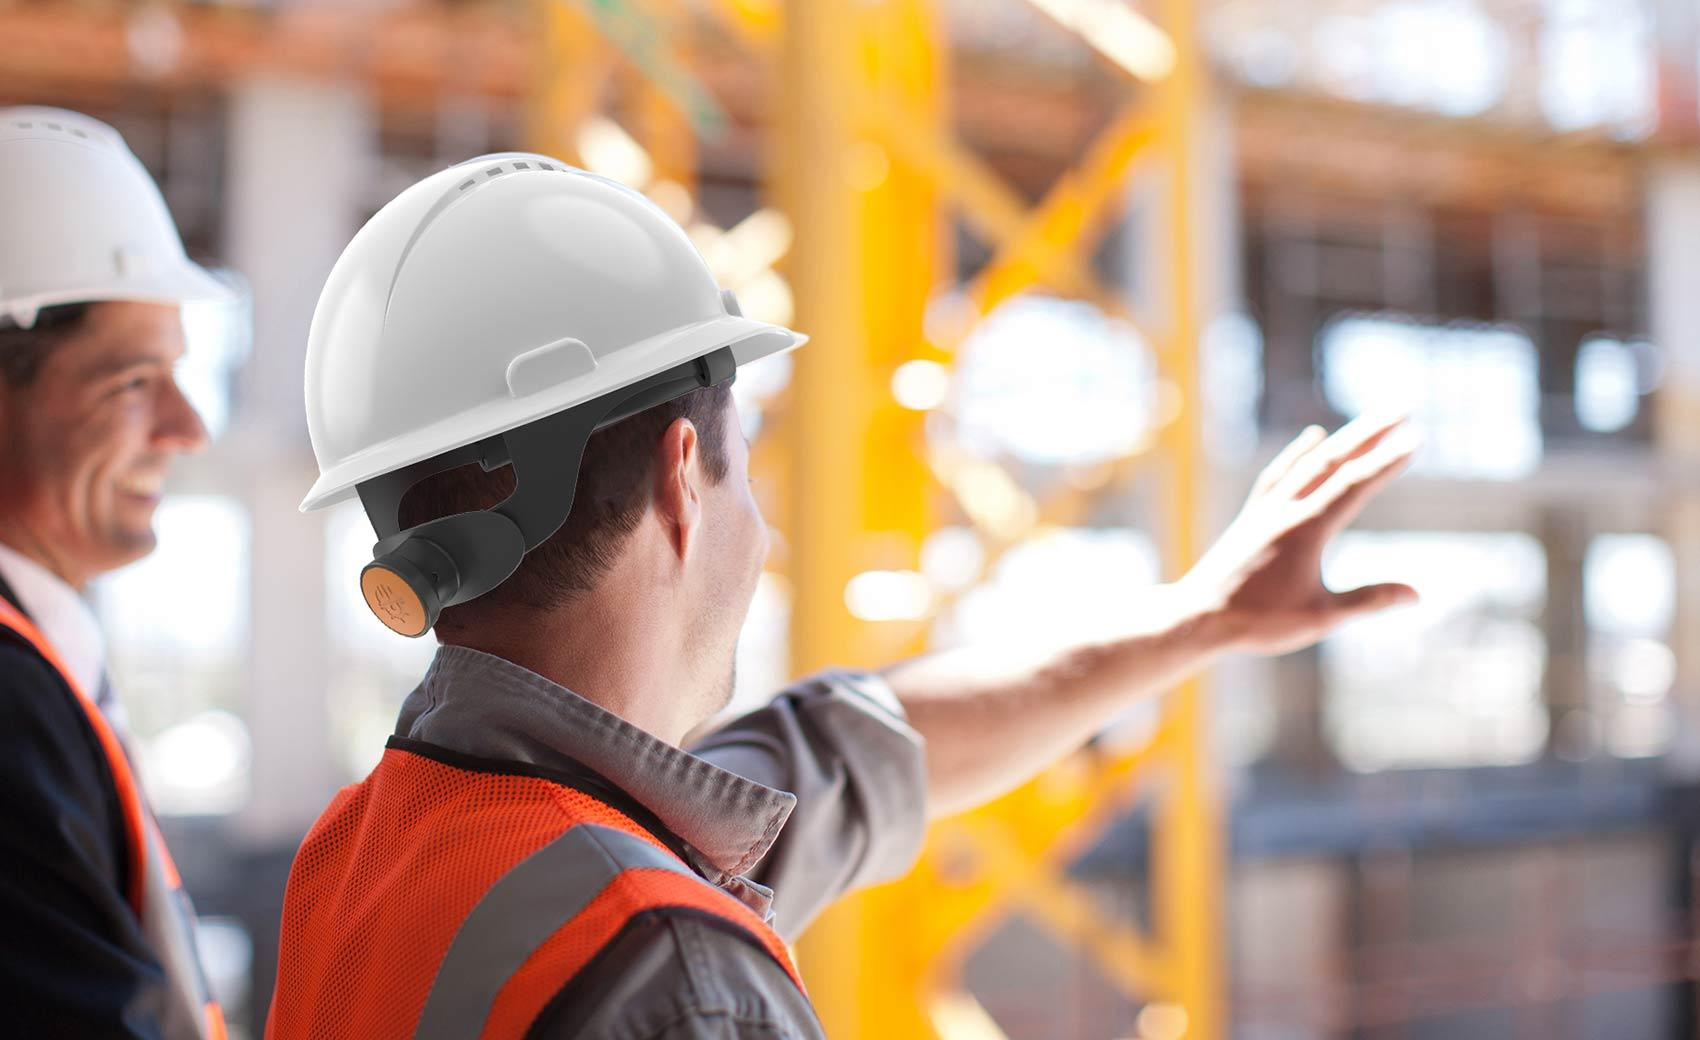helmet: (289, 151, 801, 497), (1, 101, 222, 407)
